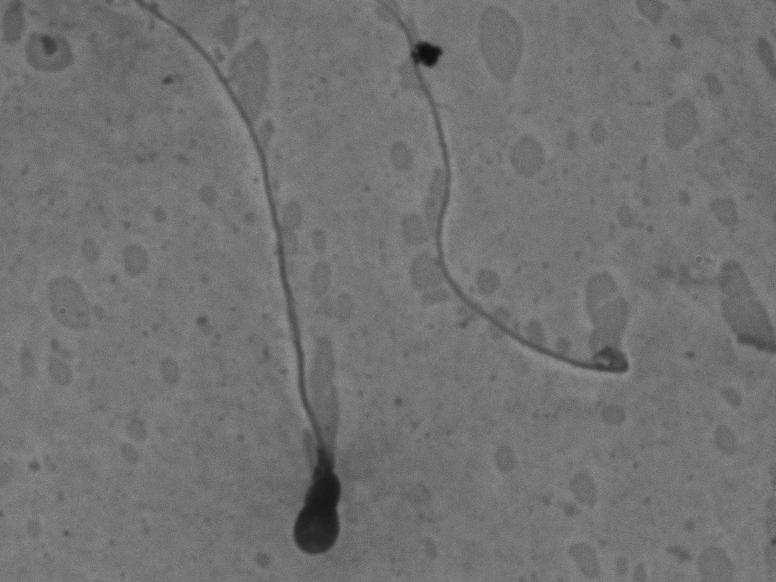Abnormal: (373, 25, 643, 395), (178, 17, 352, 562)
